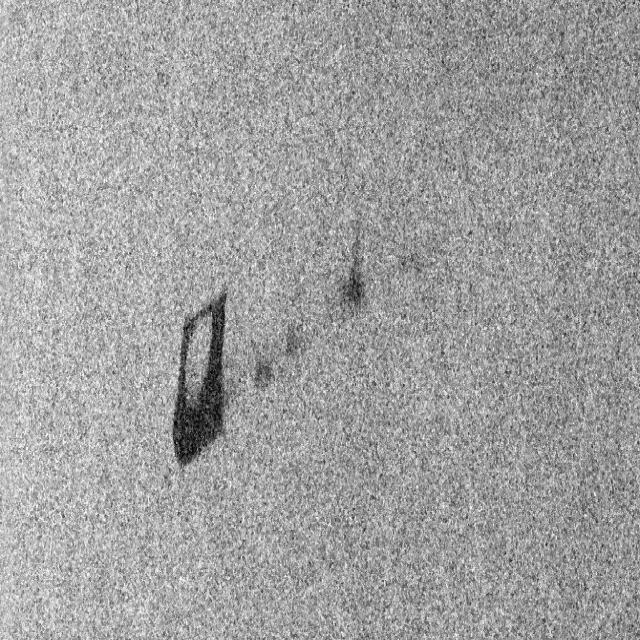oil-spill: (162, 298, 238, 474), (332, 234, 370, 325), (250, 333, 276, 397), (286, 310, 316, 357)
